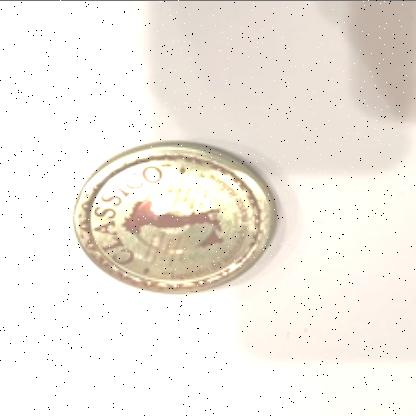Can: (72, 140, 280, 294)
